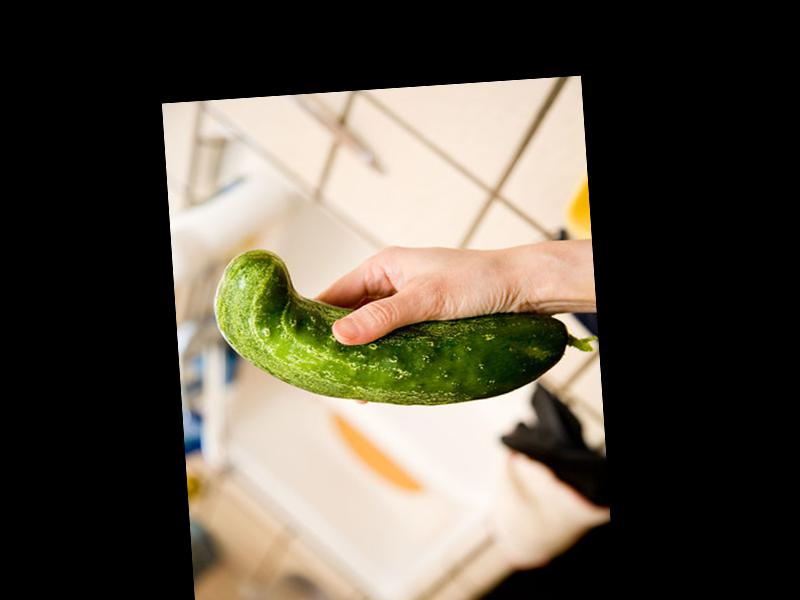Cucumber: (210, 228, 596, 420)
